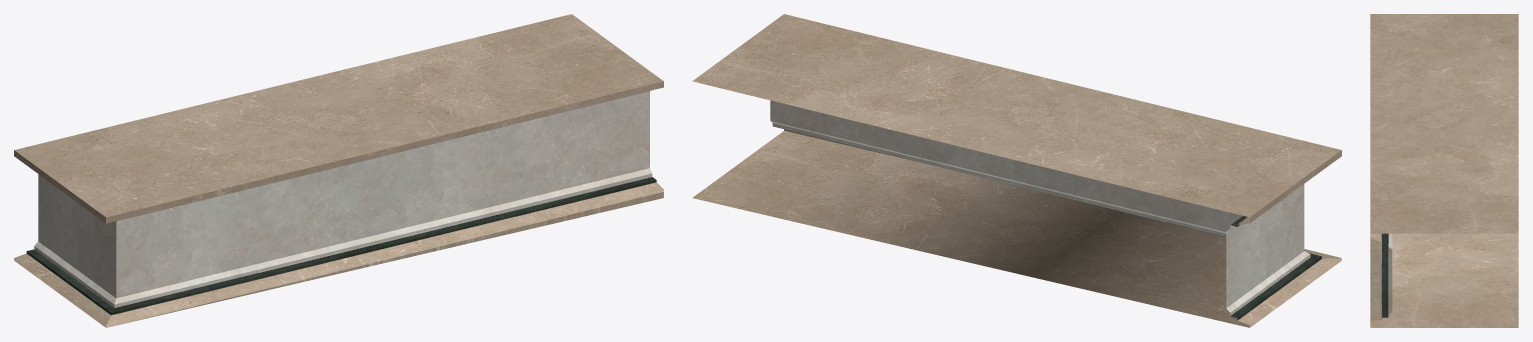
Rendered from pm-decor-01-greek.glb.
3 views of the same model, side by side, from view 1: azimuth 30°, elevation 25°; view 2: azimuth 150°, elevation 25°; view 3: azimuth 270°, elevation 25° (orthographic). The views are drawn at different scales.
Visible parts, largest first — view 1: Decor_01_Greek; view 2: Decor_01_Greek; view 3: Decor_01_Greek.
Boxes of the visible parts, x1=… form: Decor_01_Greek: x1=14, y1=14, x2=663, y2=327; Decor_01_Greek: x1=692, y1=14, x2=1341, y2=327; Decor_01_Greek: x1=1370, y1=14, x2=1518, y2=327.
Bounding box in the file's own units: 7 × 1.4 × 2.
Materials: 1 (1 with a texture image).
